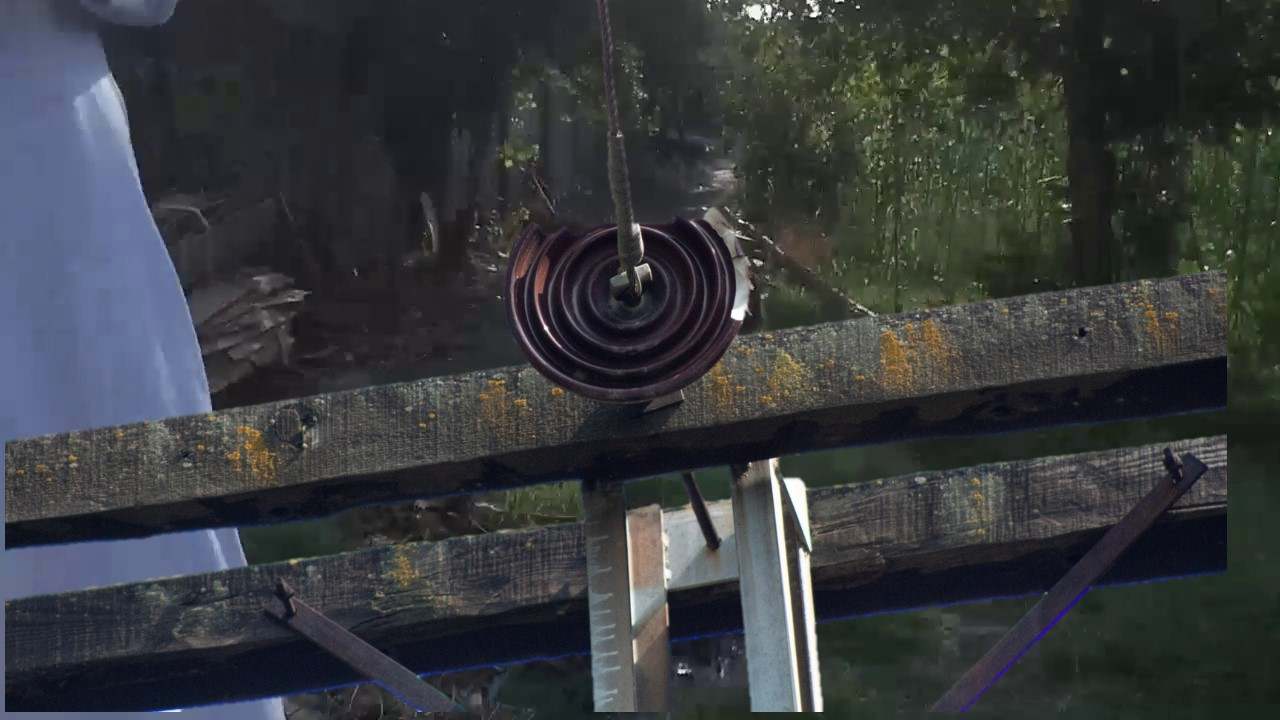defect_disc: (502, 198, 757, 411)
